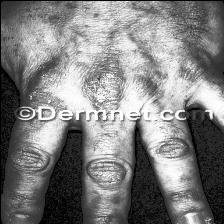Non-Cancerous Skin Condition: (83, 58, 135, 107), (20, 58, 70, 102), (37, 0, 113, 26), (170, 52, 216, 92)
